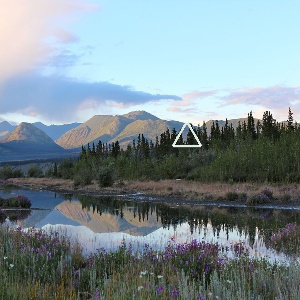triangle: (171, 119, 203, 149)
